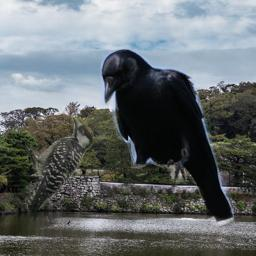Crow: (99, 48, 234, 230)
Woodpecker: (25, 112, 94, 222)
